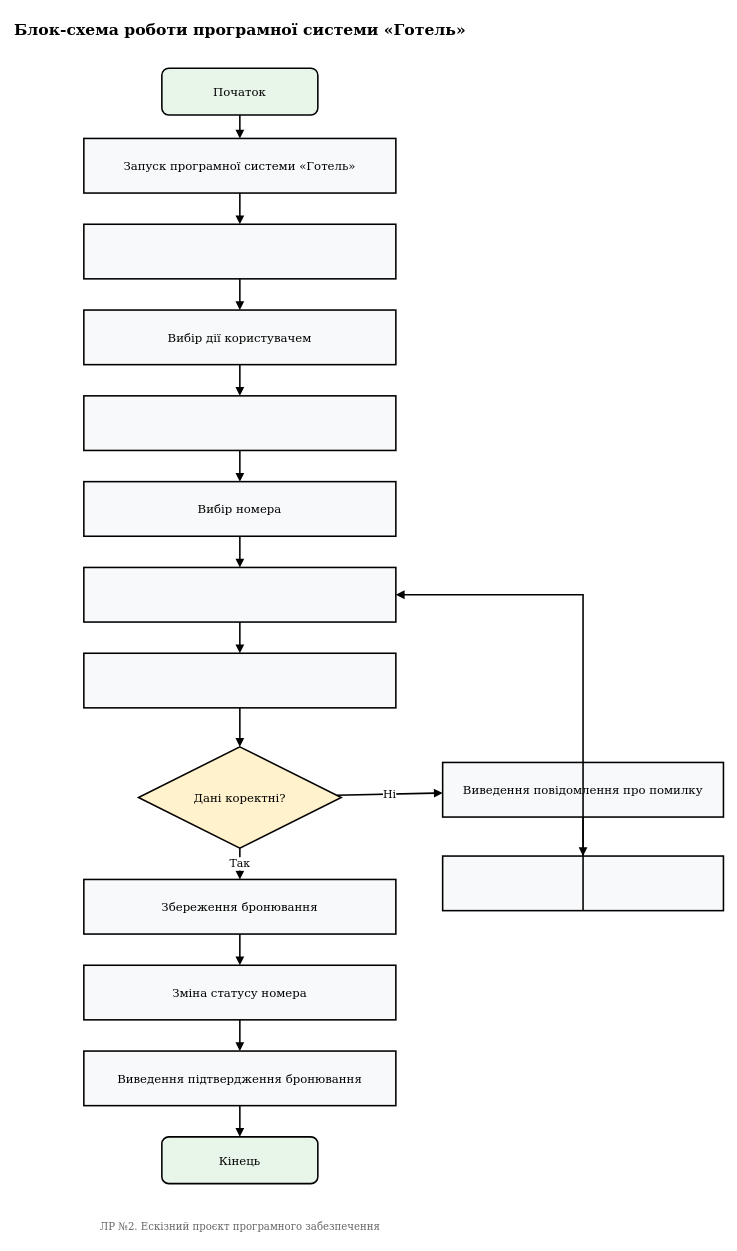
Image size: 737x1251. Some labels were removed from this diagram. Here are the shapes that lost their labels. From the top down, the centre of each, then its label:
At point 239,251: "Відображення головного меню".
At point 239,423: "Перегляд доступних номерів".
At point 239,594: "Введення даних бронювання".
At point 239,680: "Перевірка коректності даних".
At point 582,883: "Повторне введення даних".
